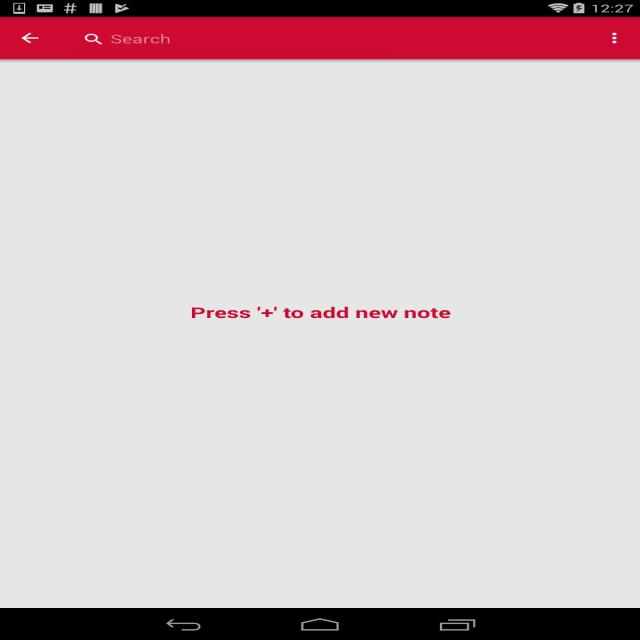button: (12, 27, 56, 50), (83, 30, 105, 46), (607, 28, 624, 48)
field: (82, 26, 384, 50)
label: (108, 31, 172, 45)
text: (188, 304, 452, 322)
